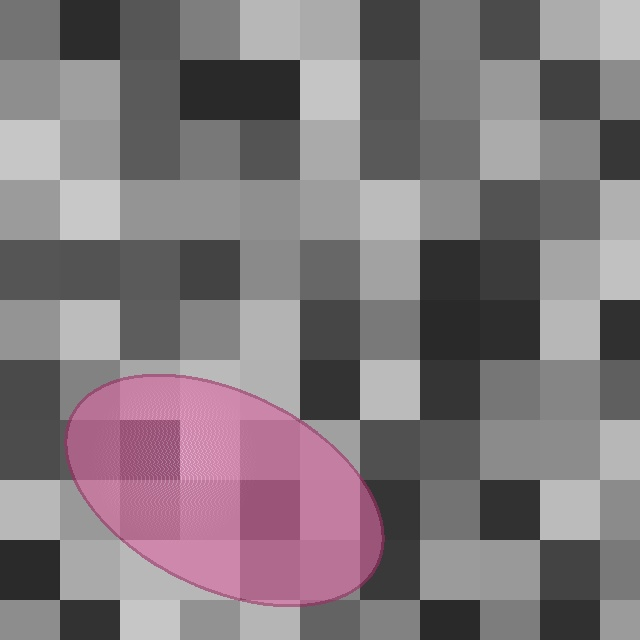lens: (65, 375, 383, 605)
